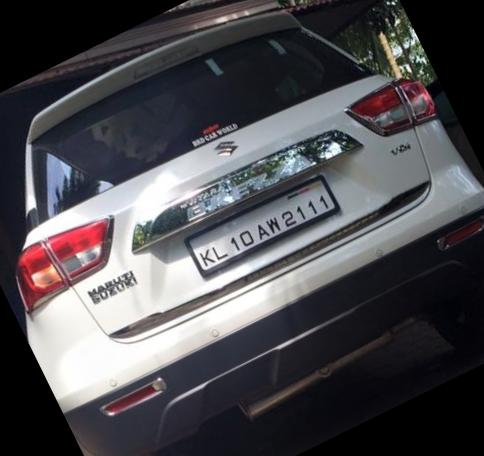plate: (174, 159, 359, 297)
